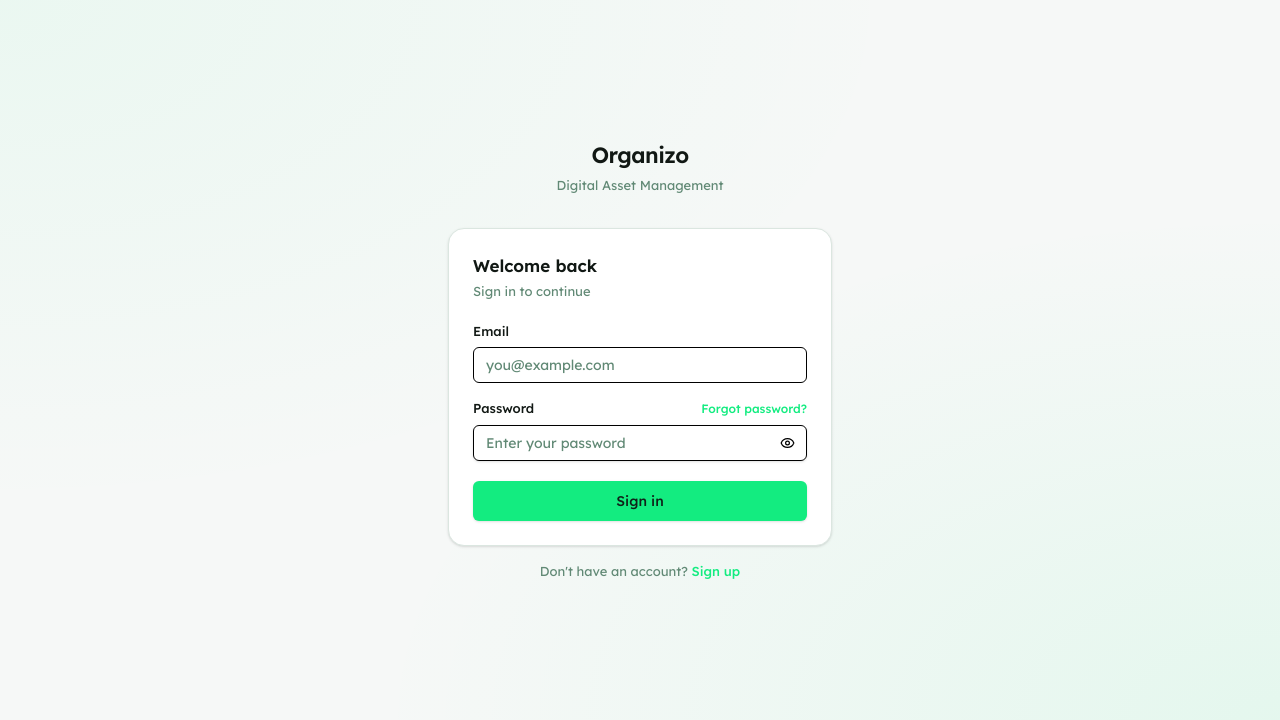
it: LoginPage › shows a validation error when email is missing
Click the button "Sign in".
click(640, 500)  # box [473, 480, 807, 520]
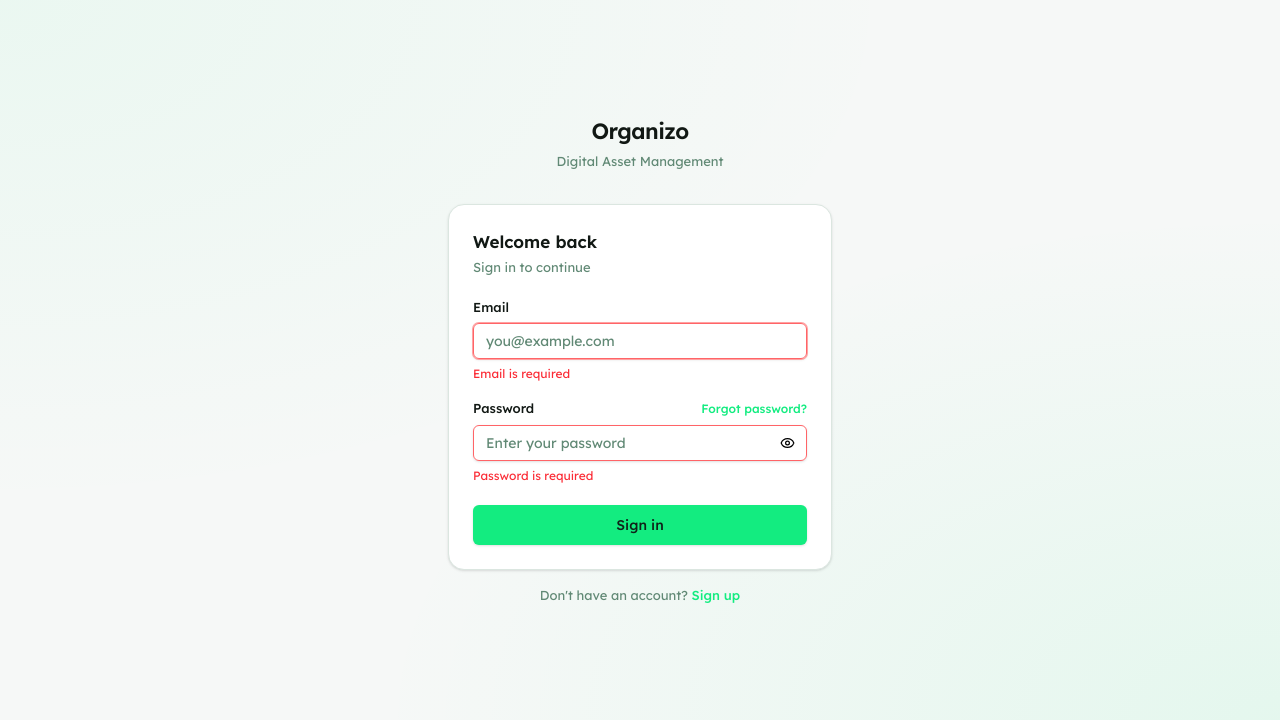
Now the text "Email is required" is shown, box [473, 366, 570, 381]
